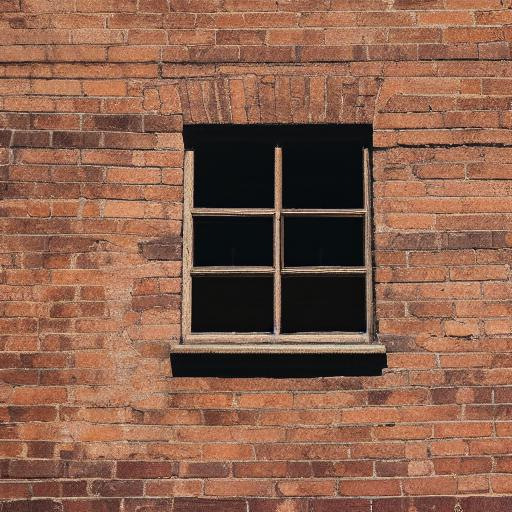Window: (171, 77, 392, 359)
